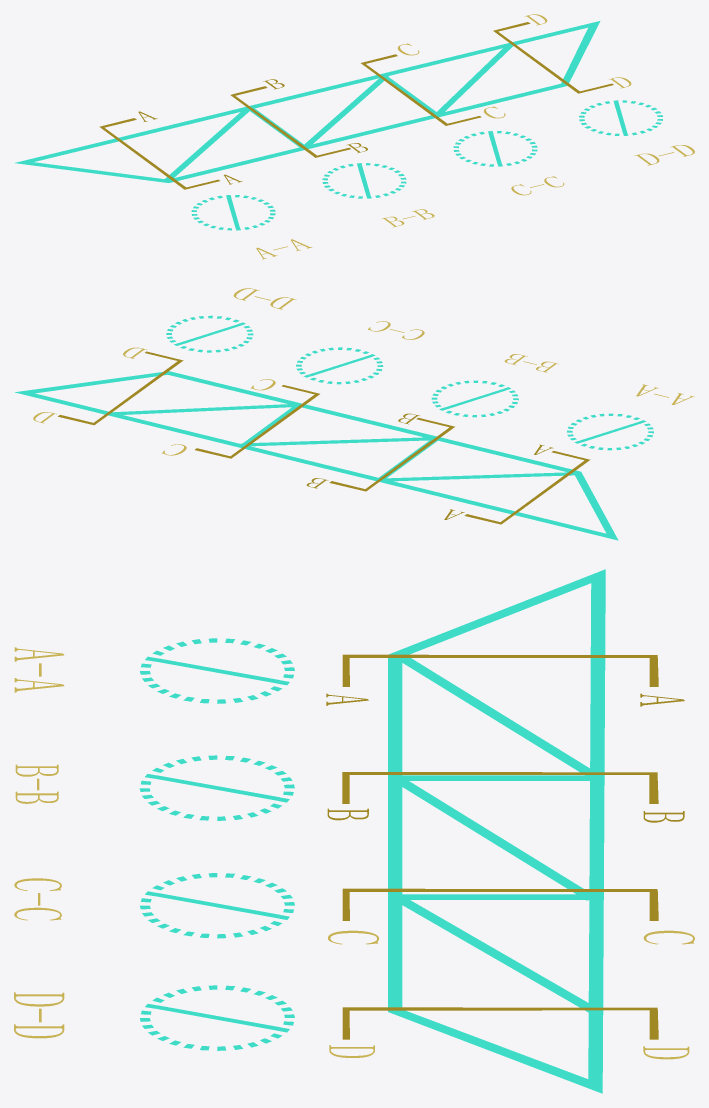
Rendered from zn_leftFrame.obj.
3 views of the same model, one above another, from view 1: azimuth 30°, elevation 25°; view 2: azimuth 150°, elevation 25°; view 3: azimuth 270°, elevation 25° (orthographic). The views are drawn at different scales.
Parts seen in each view (by area): view 1: Line004, Line009, Line008, Line005, Line007, Donut004, Donut001, Donut003, Donut005; view 2: Line004, Line007, Line005, Line008, Line009, Donut003, Donut004, Donut005, Donut001; view 3: Line004, Line007, Line005, Line009, Line008, Donut004, Donut003, Donut001, Donut005.
Part boxes in pixels (box(x1,y1,x2,y2)): Line004: box(15, 21, 600, 182); Line009: box(361, 54, 481, 125); Line008: box(230, 86, 350, 157); Line005: box(99, 118, 219, 189); Line007: box(493, 22, 613, 93); Donut004: box(322, 163, 406, 198); Donut001: box(191, 195, 275, 230); Donut003: box(579, 100, 662, 135); Donut005: box(453, 131, 537, 166); Line004: box(15, 371, 618, 540); Line007: box(58, 351, 183, 425); Line005: box(464, 451, 590, 524); Line008: box(329, 417, 454, 491); Line009: box(195, 385, 319, 458); Donut003: box(166, 315, 253, 352); Donut004: box(431, 380, 518, 417); Donut005: box(296, 347, 383, 384); Donut001: box(567, 413, 653, 450); Line004: box(388, 569, 605, 1093); Line007: box(342, 1007, 658, 1039); Line005: box(342, 654, 658, 686); Line009: box(342, 888, 658, 920); Line008: box(342, 772, 658, 803); Donut004: box(139, 755, 294, 820); Donut003: box(140, 985, 294, 1050); Donut001: box(140, 638, 294, 703); Donut005: box(140, 873, 294, 938).
Size of the model in its own units: 275 by 0.7397 by 151.
